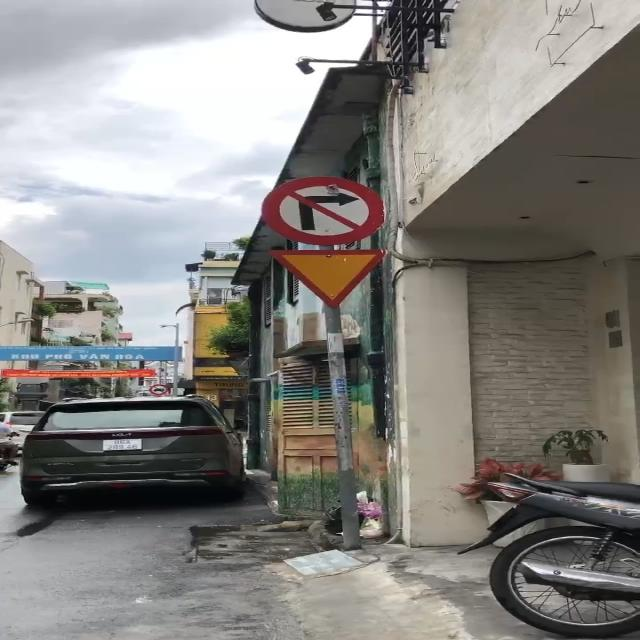Bien bao cam re phai: (263, 178, 392, 248)
Bien bao giao nhau voi duong uu tien: (265, 249, 408, 312)
